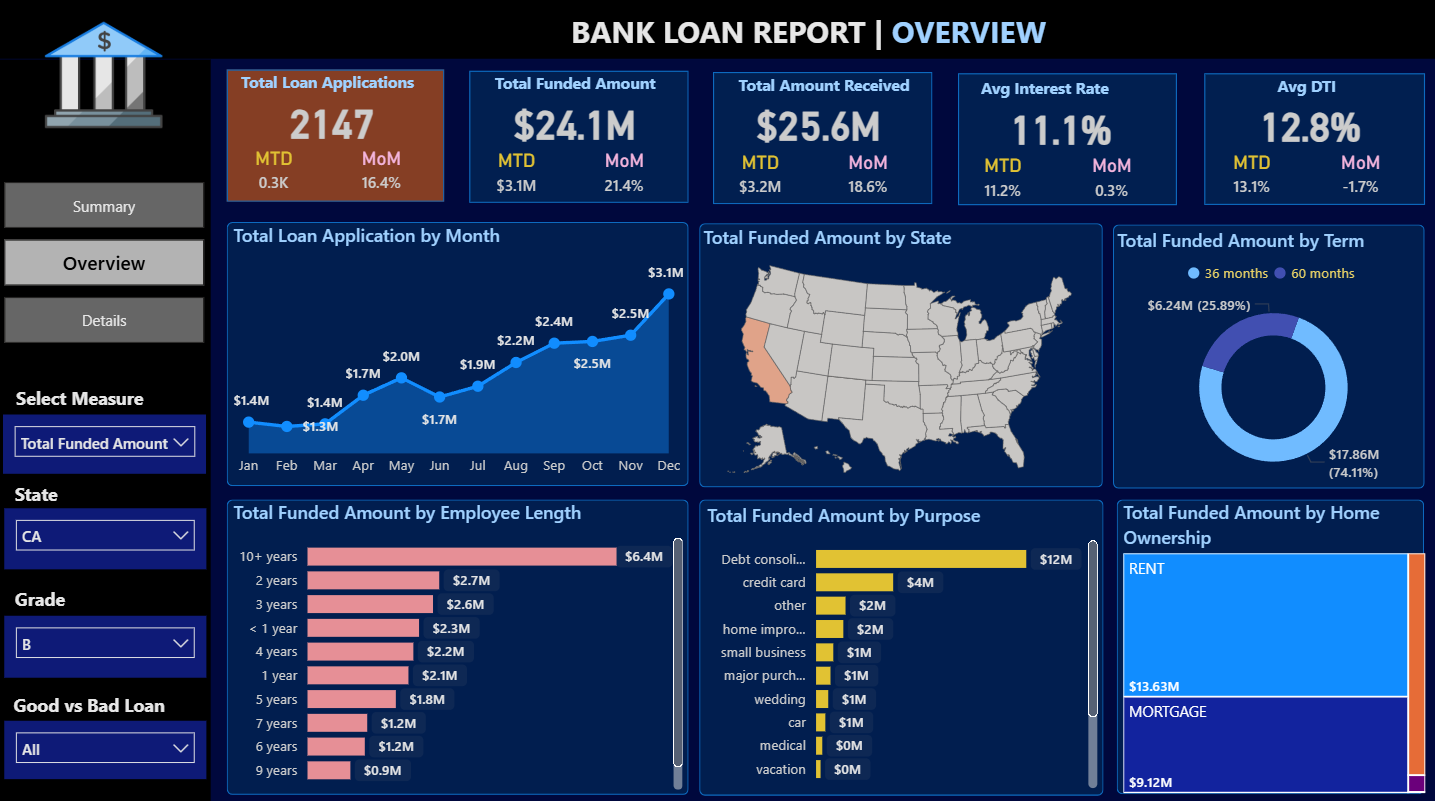

This screenshot's page, from the dashboard's own definition file:
{"tool":"powerbi","page":{"name":"Overview","canvas":[1280,720],"ordinal":1},"visuals":[{"type":"shape","box":[203.8,64.6,193.8,117.8],"z":0,"group":"g1"},{"type":"shape","box":[419.5,66.3,195.4,117.7],"z":0,"group":"g2"},{"type":"shape","box":[636.6,67.7,195.4,117.7],"z":0,"group":"g3"},{"type":"shape","box":[854.5,68.5,195,117.5],"z":0,"group":"g4"},{"type":"shape","box":[1073.8,68.8,196.6,117.3],"z":0,"group":"g5"},{"type":"shape","box":[203.9,200.3,411.4,235.3],"z":0},{"type":"shape","box":[0,0,1280,55],"z":1000},{"type":"card","fields":{"Values":["bank_loan_data.Total Loan Applications"]},"box":[227.1,80,140.2,60.1],"z":1000,"group":"g1"},{"type":"card","fields":{"Values":["bank_loan_data.Total Funded Amount"]},"box":[443,81.7,141.4,60],"z":1000,"group":"g2"},{"type":"card","fields":{"Values":["bank_loan_data.Total Amount Received"]},"box":[660.1,83.1,141.4,60],"z":1000,"group":"g3"},{"type":"card","fields":{"Values":["bank_loan_data.Avg DTI"]},"box":[1097.4,84.1,142.3,59.8],"z":1000,"group":"g5"},{"type":"card","fields":{"Values":["bank_loan_data.Average Interest Rate"]},"box":[876.2,86,141.4,60],"z":1000,"group":"g4"},{"type":"shape","box":[0,55.5,189.4,664.7],"z":2000},{"type":"textbox","box":[211.5,61.2,172.3,35],"z":2000,"group":"g1"},{"type":"textbox","box":[437.4,62.5,173.8,35.4],"z":2000,"group":"g2"},{"type":"textbox","box":[654.5,63.9,173.8,35.4],"z":2000,"group":"g3"},{"type":"textbox","box":[1091.8,65,175,35.3],"z":2000,"group":"g5"},{"type":"textbox","box":[870.6,66.8,173.8,35.4],"z":2000,"group":"g4"},{"type":"textbox","box":[505,7.5,442.5,47.5],"z":3000},{"type":"card","title":"MTD","fields":{"Values":["bank_loan_data.MTD Loan Applications"]},"box":[211.5,133.8,68.2,45],"z":3000,"group":"g1"},{"type":"card","title":"MTD","fields":{"Values":["bank_loan_data.MTD Funded Amount"]},"box":[427.3,135.4,68.8,45],"z":3000,"group":"g2"},{"type":"card","title":"MTD","fields":{"Values":["bank_loan_data.MTD Total Amount Recieved"]},"box":[644.4,136.8,68.8,45],"z":3000,"group":"g3"},{"type":"card","title":"MTD","fields":{"Values":["bank_loan_data.MTD Avg DTI"]},"box":[1081.6,137.7,69.2,44.8],"z":3000,"group":"g5"},{"type":"card","title":"MTD","fields":{"Values":["bank_loan_data.MTD Avg Int Rate"]},"box":[860.5,139.7,68.8,45],"z":3000,"group":"g4"},{"type":"group","id":"g1","title":"Group 1","box":[203.8,61.2,193.8,121.2],"z":4000},{"type":"card","title":"MoM","fields":{"Values":["bank_loan_data.MOM Loan Application"]},"box":[309.1,133.9,64.1,44.7],"z":4000,"group":"g1"},{"type":"card","title":"MoM","fields":{"Values":["bank_loan_data.MOM Funded Amount"]},"box":[525.7,135.5,64.6,44.6],"z":4000,"group":"g2"},{"type":"card","title":"MoM","fields":{"Values":["bank_loan_data.MOM Total Amount Recieved"]},"box":[742.8,136.9,64.6,44.6],"z":4000,"group":"g3"},{"type":"card","title":"MoM","fields":{"Values":["bank_loan_data.MoM Avg DTI"]},"box":[1180.7,137.8,65,44.5],"z":4000,"group":"g5"},{"type":"card","title":"MoM","fields":{"Values":["bank_loan_data.MoM Avg Int Rate"]},"box":[958.9,139.8,64.6,44.6],"z":4000,"group":"g4"},{"type":"group","id":"g2","title":"Group 1","box":[419.5,62.5,195,121.7],"z":5000},{"type":"group","id":"g3","title":"Group 1","box":[636.6,63.9,195.8,121.7],"z":6000},{"type":"group","id":"g4","title":"Group 1","box":[854.5,66.8,195,119.2],"z":7000},{"type":"group","id":"g5","title":"Group 1","box":[1073.8,65,196.2,121.2],"z":8000},{"type":"textbox","box":[35,447.5,231.2,35],"z":9000},{"type":"slicer","fields":{"Values":["bank_loan_data.address_state"]},"box":[6,454.8,179.8,54.3],"z":10000},{"type":"textbox","box":[9.7,425.9,160.5,43.4],"z":11000},{"type":"slicer","fields":{"Values":["bank_loan_data.grade"]},"box":[6,551.3,179.8,55.5],"z":12000},{"type":"slicer","fields":{"Values":["bank_loan_data.Good vs Bad Loan"]},"box":[6,644.2,179.8,51.9],"z":13000},{"type":"textbox","box":[8.8,614.5,160,43.8],"z":14000},{"type":"textbox","box":[9.7,520,158,44.6],"z":15000},{"type":"areaChart","title":"Total Loan Application by Month","fields":{"Y":["bank_loan_data.Total Funded Amount"],"Category":["DATE Table.Month"]},"box":[205.1,200.3,411.4,235.3],"z":16000},{"type":"slicer","fields":{"Values":["Select Measure.Select Measure"]},"box":[4.8,371.6,181,53.1],"z":17000},{"type":"textbox","box":[10.9,340.2,131.5,43.4],"z":18000},{"type":"shape","box":[624.9,201.5,359.5,235.3],"z":19000},{"type":"shapeMap","fields":{"Value":["bank_loan_data.Total Funded Amount"],"Category":["bank_loan_data.address_state"]},"box":[623.7,202.7,359.5,236.5],"z":20000},{"type":"shape","box":[203.9,447.6,411.4,263],"z":21000},{"type":"shape","box":[992.9,202.7,277.5,235.3],"z":22000},{"type":"donutChart","fields":{"Y":["bank_loan_data.Total Funded Amount"],"Category":["bank_loan_data.term"]},"box":[991.7,205.1,288.3,236.5],"z":23000},{"type":"shape","box":[625,447.5,360,263.8],"z":24000},{"type":"barChart","fields":{"Y":["bank_loan_data.Total Funded Amount"],"Category":["bank_loan_data.emp_length"]},"box":[205,447.5,410,263.8],"z":25000},{"type":"barChart","fields":{"Y":["bank_loan_data.Total Funded Amount"],"Category":["bank_loan_data.purpose"]},"box":[626.2,450,357.5,260],"z":26000},{"type":"shape","box":[996.2,447.5,273.8,262.5],"z":27000},{"type":"treemap","fields":{"Values":["bank_loan_data.Total Funded Amount"],"Group":["bank_loan_data.home_ownership"]},"box":[997.5,447.5,278.8,266.2],"z":28000},{"type":"pageNavigator","box":[6,164.3,178.6,146],"z":29000},{"type":"image","box":[35,12.1,119.4,114.6],"z":30000}]}

Visuals, with their boxes in screenshot pixels (x1, y1, x2, y2), scaled from the page's 1280x720 canvas onto the 1435x801 screenshot:
shape: {"left": 228, "top": 72, "right": 446, "bottom": 203}
shape: {"left": 470, "top": 74, "right": 689, "bottom": 205}
shape: {"left": 714, "top": 75, "right": 933, "bottom": 206}
shape: {"left": 958, "top": 76, "right": 1177, "bottom": 207}
shape: {"left": 1204, "top": 77, "right": 1424, "bottom": 207}
shape: {"left": 229, "top": 223, "right": 690, "bottom": 485}
shape: {"left": 0, "top": 0, "right": 1434, "bottom": 61}
card - bank_loan_data.Total Loan Applications: {"left": 255, "top": 89, "right": 412, "bottom": 156}
card - bank_loan_data.Total Funded Amount: {"left": 497, "top": 91, "right": 655, "bottom": 158}
card - bank_loan_data.Total Amount Received: {"left": 740, "top": 92, "right": 899, "bottom": 159}
card - bank_loan_data.Avg DTI: {"left": 1230, "top": 94, "right": 1390, "bottom": 160}
card - bank_loan_data.Average Interest Rate: {"left": 982, "top": 96, "right": 1141, "bottom": 162}
shape: {"left": 0, "top": 62, "right": 212, "bottom": 800}
textbox: {"left": 237, "top": 68, "right": 430, "bottom": 107}
textbox: {"left": 490, "top": 70, "right": 685, "bottom": 109}
textbox: {"left": 734, "top": 71, "right": 929, "bottom": 110}
textbox: {"left": 1224, "top": 72, "right": 1420, "bottom": 112}
textbox: {"left": 976, "top": 74, "right": 1171, "bottom": 114}
textbox: {"left": 566, "top": 8, "right": 1062, "bottom": 61}
"MTD" card: {"left": 237, "top": 149, "right": 314, "bottom": 199}
"MTD" card: {"left": 479, "top": 151, "right": 556, "bottom": 201}
"MTD" card: {"left": 722, "top": 152, "right": 800, "bottom": 202}
"MTD" card: {"left": 1213, "top": 153, "right": 1290, "bottom": 203}
"MTD" card: {"left": 965, "top": 155, "right": 1042, "bottom": 205}
"Group 1" group: {"left": 228, "top": 68, "right": 446, "bottom": 203}
"MoM" card: {"left": 347, "top": 149, "right": 418, "bottom": 199}
"MoM" card: {"left": 589, "top": 151, "right": 662, "bottom": 200}
"MoM" card: {"left": 833, "top": 152, "right": 905, "bottom": 202}
"MoM" card: {"left": 1324, "top": 153, "right": 1397, "bottom": 203}
"MoM" card: {"left": 1075, "top": 156, "right": 1147, "bottom": 205}
"Group 1" group: {"left": 470, "top": 70, "right": 689, "bottom": 205}
"Group 1" group: {"left": 714, "top": 71, "right": 933, "bottom": 206}
"Group 1" group: {"left": 958, "top": 74, "right": 1177, "bottom": 207}
"Group 1" group: {"left": 1204, "top": 72, "right": 1424, "bottom": 207}
textbox: {"left": 39, "top": 498, "right": 298, "bottom": 537}
slicer - bank_loan_data.address_state: {"left": 7, "top": 506, "right": 208, "bottom": 566}
textbox: {"left": 11, "top": 474, "right": 191, "bottom": 522}
slicer - bank_loan_data.grade: {"left": 7, "top": 613, "right": 208, "bottom": 675}
slicer - bank_loan_data.Good vs Bad Loan: {"left": 7, "top": 717, "right": 208, "bottom": 774}
textbox: {"left": 10, "top": 684, "right": 189, "bottom": 732}
textbox: {"left": 11, "top": 578, "right": 188, "bottom": 628}
"Total Loan Application by Month" areaChart: {"left": 230, "top": 223, "right": 691, "bottom": 485}
slicer - Select Measure.Select Measure: {"left": 5, "top": 413, "right": 208, "bottom": 472}
textbox: {"left": 12, "top": 378, "right": 160, "bottom": 427}
shape: {"left": 701, "top": 224, "right": 1104, "bottom": 486}
shapeMap - bank_loan_data.Total Funded Amount x bank_loan_data.address_state: {"left": 699, "top": 226, "right": 1102, "bottom": 489}
shape: {"left": 229, "top": 498, "right": 690, "bottom": 791}
shape: {"left": 1113, "top": 226, "right": 1424, "bottom": 487}
donutChart - bank_loan_data.Total Funded Amount x bank_loan_data.term: {"left": 1112, "top": 228, "right": 1434, "bottom": 491}
shape: {"left": 701, "top": 498, "right": 1104, "bottom": 791}
barChart - bank_loan_data.Total Funded Amount x bank_loan_data.emp_length: {"left": 230, "top": 498, "right": 689, "bottom": 791}
barChart - bank_loan_data.Total Funded Amount x bank_loan_data.purpose: {"left": 702, "top": 501, "right": 1103, "bottom": 790}
shape: {"left": 1117, "top": 498, "right": 1424, "bottom": 790}
treemap - bank_loan_data.Total Funded Amount x bank_loan_data.home_ownership: {"left": 1118, "top": 498, "right": 1431, "bottom": 794}
pageNavigator: {"left": 7, "top": 183, "right": 207, "bottom": 345}
image: {"left": 39, "top": 13, "right": 173, "bottom": 141}
